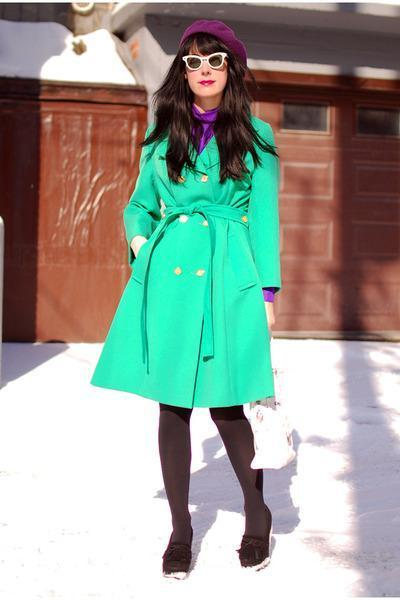hat: (160, 12, 237, 55)
jacket: (90, 113, 280, 408)
shoe: (162, 540, 268, 573)
